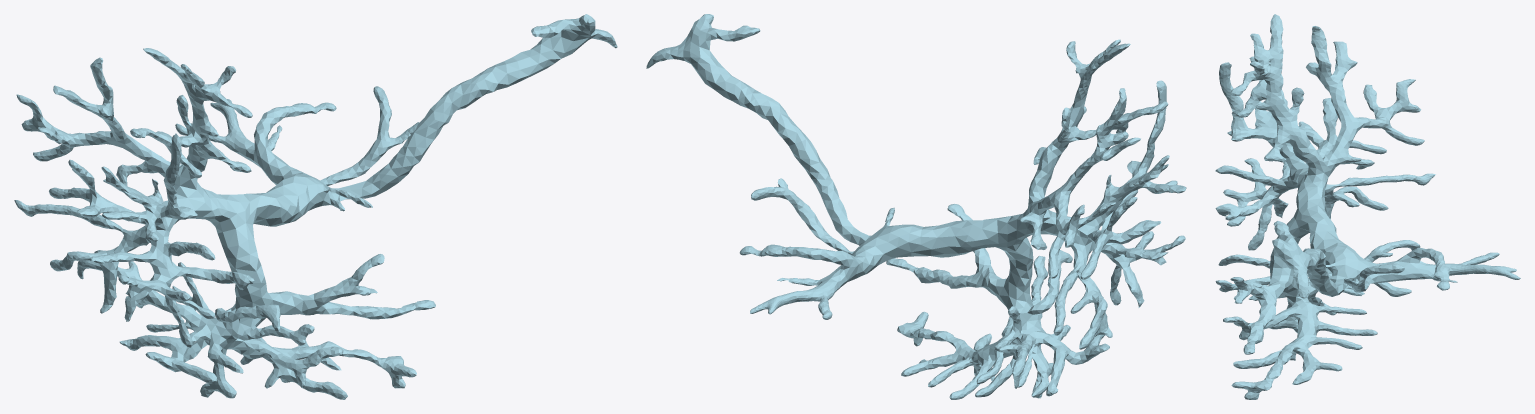
Rendered from portalvein.obj.
3 renders of one model, left to right at view 1: azimuth 30°, elevation 25°; view 2: azimuth 150°, elevation 25°; view 3: azimuth 270°, elevation 25°, orthographic. The views are drawn at different scales.
Parts seen in each view (by area): view 1: grp1; view 2: grp1; view 3: grp1.
Boxes of the visible parts, x1,y1,x2,y2 form: grp1: (14,14,617,399); grp1: (646,14,1186,399); grp1: (1215,14,1520,399).
Size of the model in its own units: 239 by 163 by 152.
